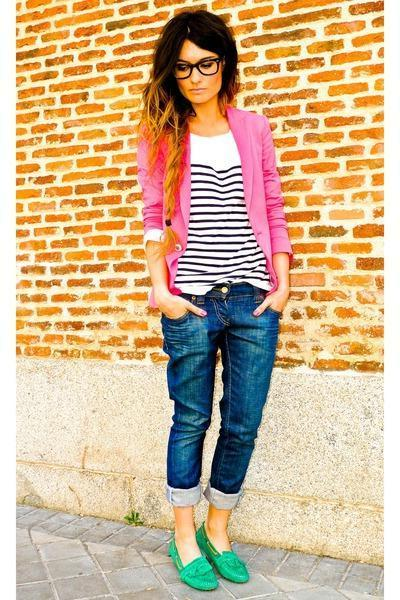jacket: (135, 110, 293, 308)
short sleeve shirt: (163, 123, 268, 293)
trousers: (156, 272, 283, 507)
